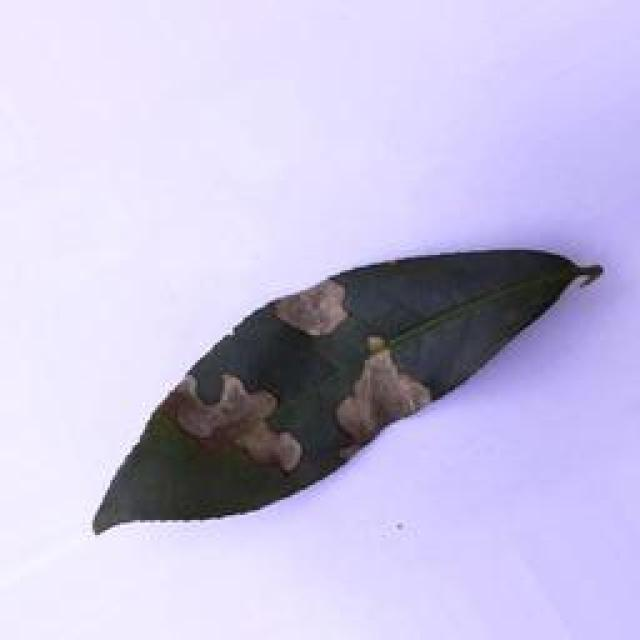Gray Blight: (87, 241, 603, 545)
